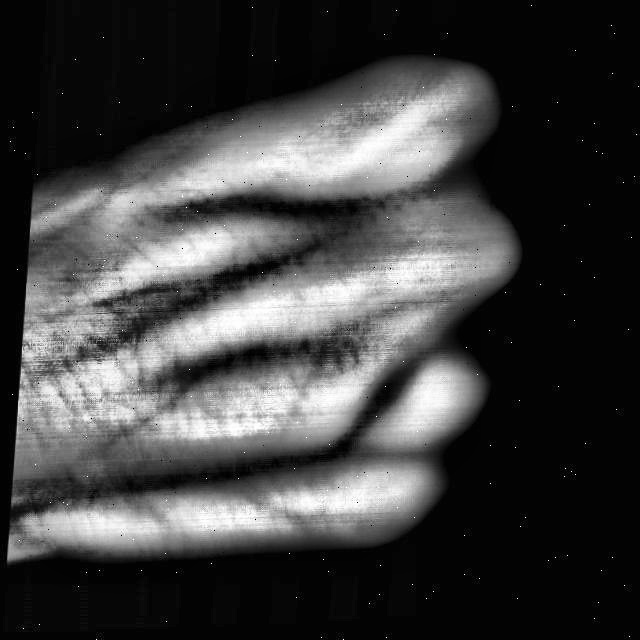Vein: (125, 441, 311, 500)
